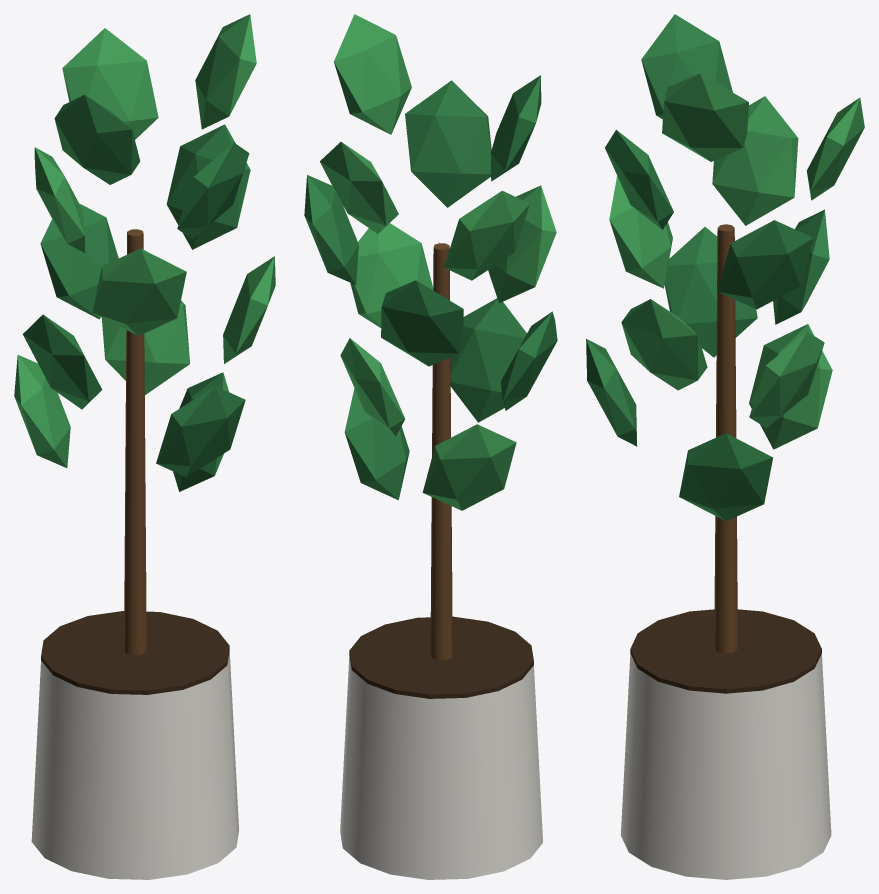
The model's file is plant_tall.glb.
3 views of the same model, side by side, from view 1: azimuth 30°, elevation 25°; view 2: azimuth 150°, elevation 25°; view 3: azimuth 270°, elevation 25° (orthographic). The views are drawn at different scales.
Visible parts, largest first — view 1: PlantTall; view 2: PlantTall; view 3: PlantTall.
Part boxes in pixels (bbox=[...]): PlantTall: bbox=[14, 14, 275, 879]; PlantTall: bbox=[304, 14, 557, 879]; PlantTall: bbox=[586, 14, 864, 879].
Bounding box in the file's own units: 0.5455 × 1.87 × 0.5821.
